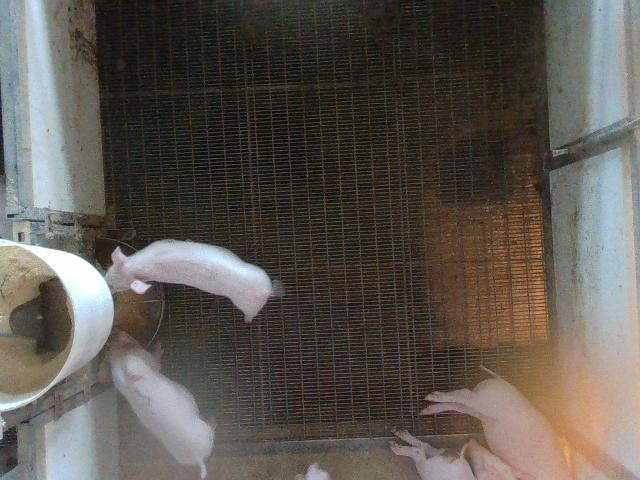pig-5: (96, 329, 214, 478)
